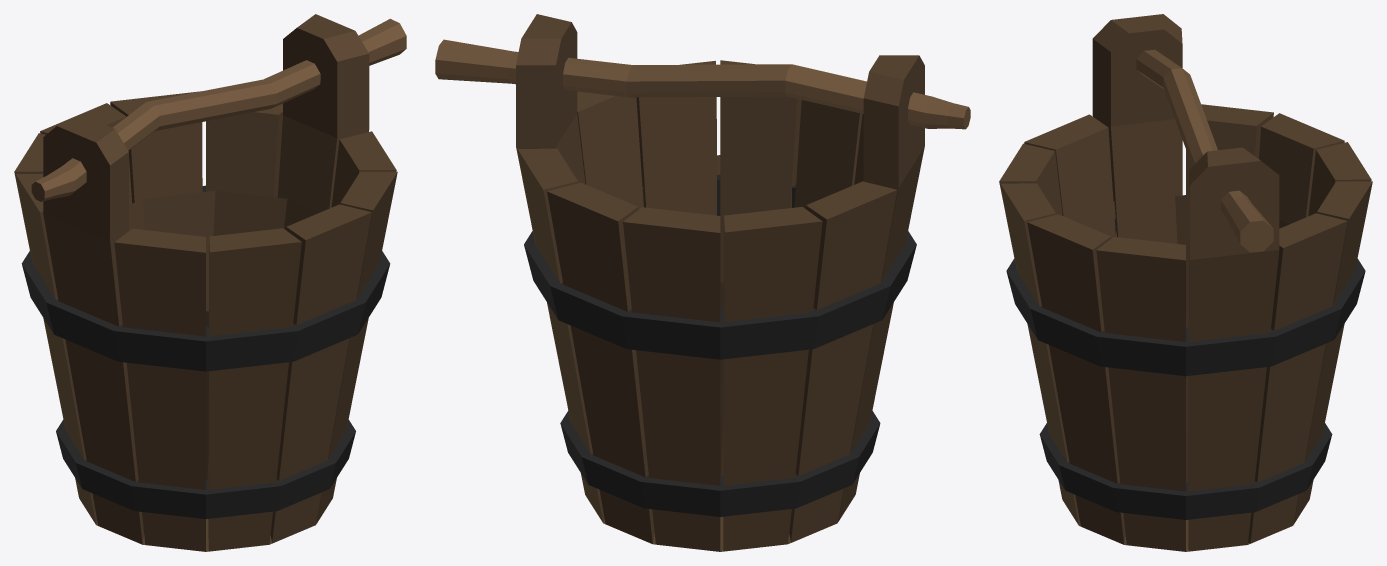
Rendered from Lege Emmer.fbx.
3 renders of one model, left to right at view 1: azimuth 30°, elevation 25°; view 2: azimuth 150°, elevation 25°; view 3: azimuth 270°, elevation 25°, orthographic. The views are drawn at different scales.
Parts seen in each view (by area): view 1: Metaal; view 2: Metaal; view 3: Metaal.
Boxes of the visible parts, x1,y1,x2,y2 form: Metaal: (14,14,406,551); Metaal: (435,14,970,551); Metaal: (999,14,1372,551).
Size of the model in its own units: 259 by 242 by 200.
